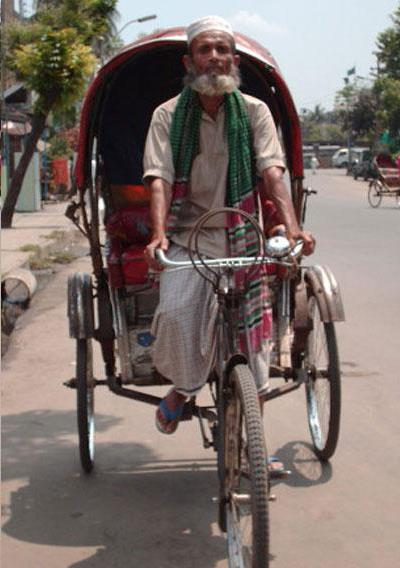Rickshaw: (58, 18, 352, 481), (363, 144, 399, 219)
